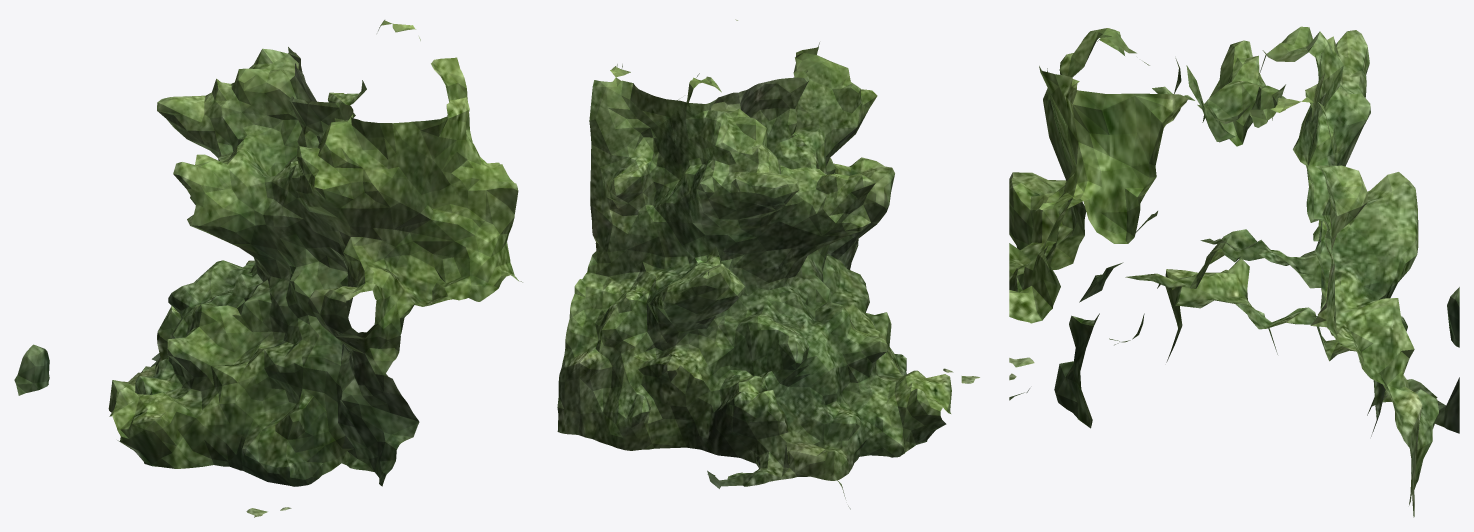
The picture shows the model from 3 angles, left to right: view 1: azimuth 30°, elevation 25°; view 2: azimuth 150°, elevation 25°; view 3: azimuth 270°, elevation 25°; orthographic projection. The views are drawn at different scales.
Size of the model in its own units: 5.9 by 5.9 by 5.9.
6 materials, 6 textured.
